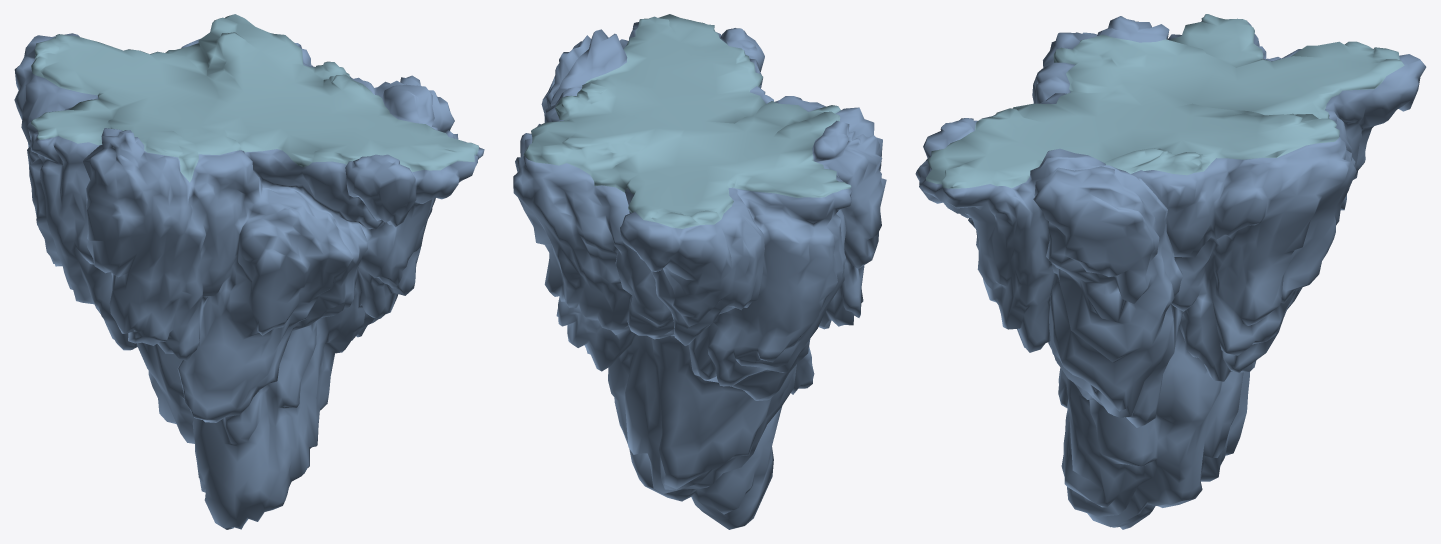
The model's file is SM_Rock_Green_09.FBX.
The picture shows the model from 3 angles, left to right: view 1: azimuth 30°, elevation 25°; view 2: azimuth 150°, elevation 25°; view 3: azimuth 270°, elevation 25°; orthographic projection. The views are drawn at different scales.
Visible parts, largest first — view 1: Rock_Green_011_LOD0; view 2: Rock_Green_011_LOD0; view 3: Rock_Green_011_LOD0.
Boxes of the visible parts, x1=… form: Rock_Green_011_LOD0: x1=14, y1=14, x2=484, y2=529; Rock_Green_011_LOD0: x1=513, y1=14, x2=886, y2=529; Rock_Green_011_LOD0: x1=915, y1=14, x2=1426, y2=529.
Size of the model in its own units: 4525 by 5348 by 5293.
